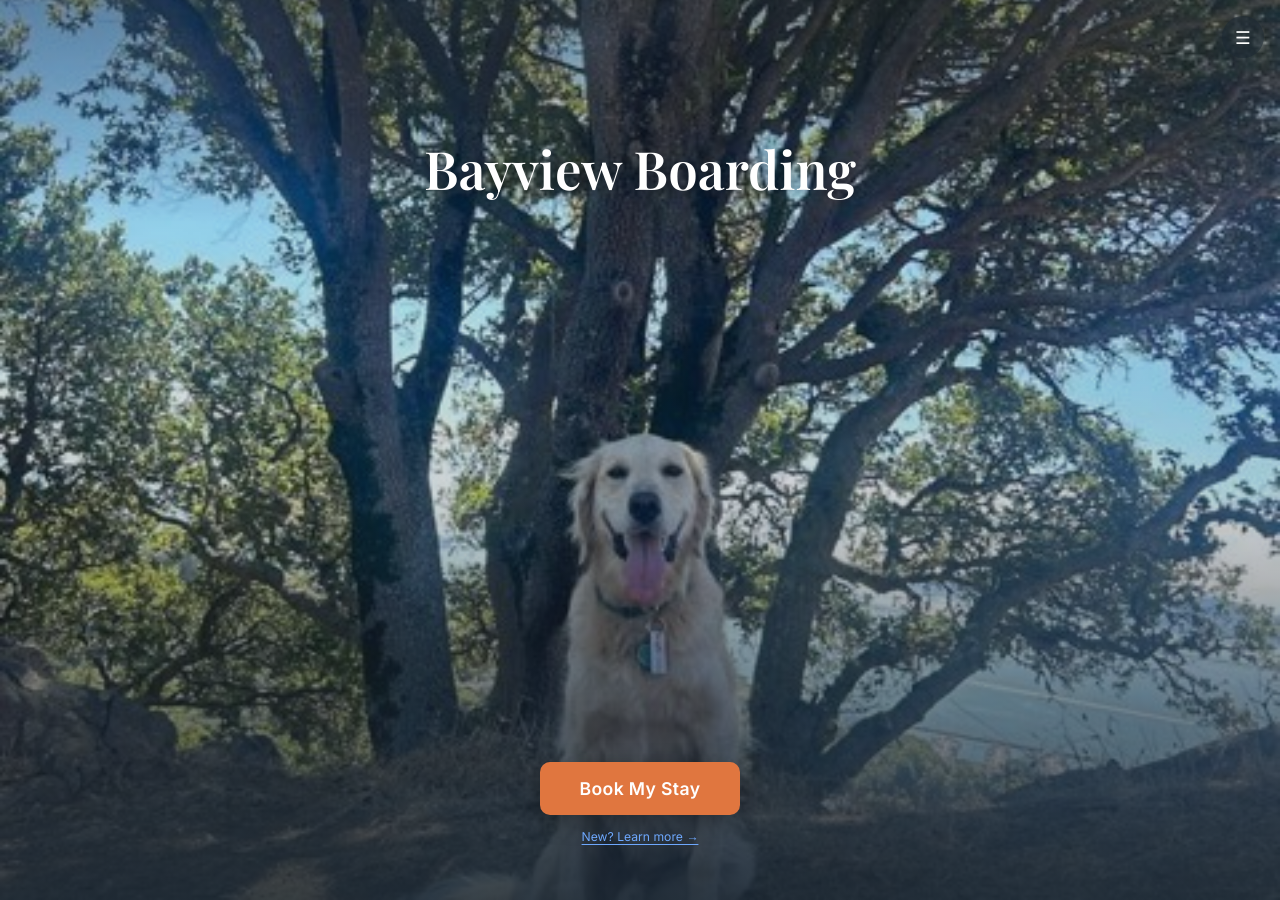
Test: Nav menu (hamburger) › clicking the backdrop closes the menu without navigating
The image size is (1280, 900).
Click the button named "Open menu".
click(1243, 37)  # box x1=1222 y1=16 x2=1264 y2=58
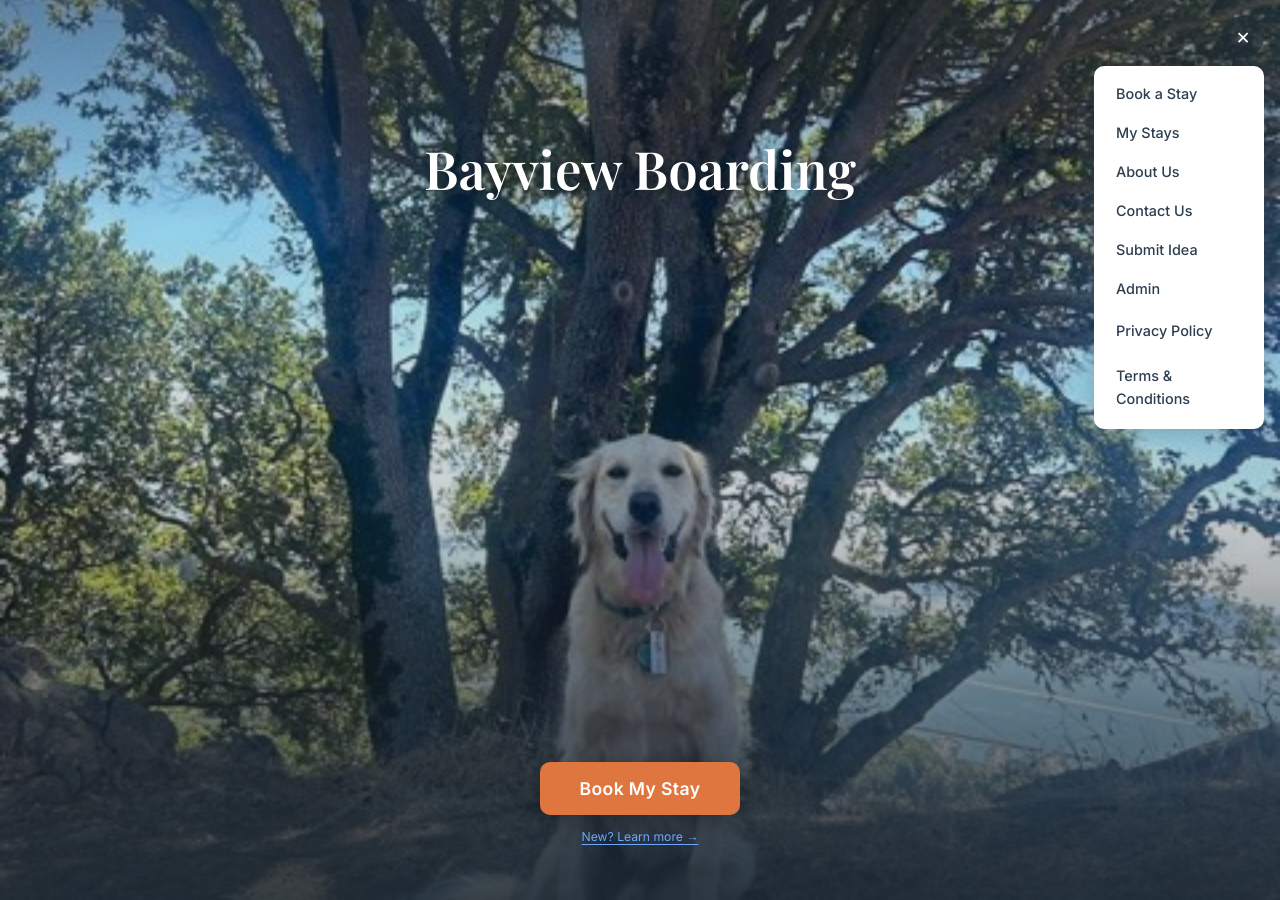
Click the element with class "nav-menu-backdrop".
click(640, 450)  # box x1=0 y1=0 x2=1279 y2=899
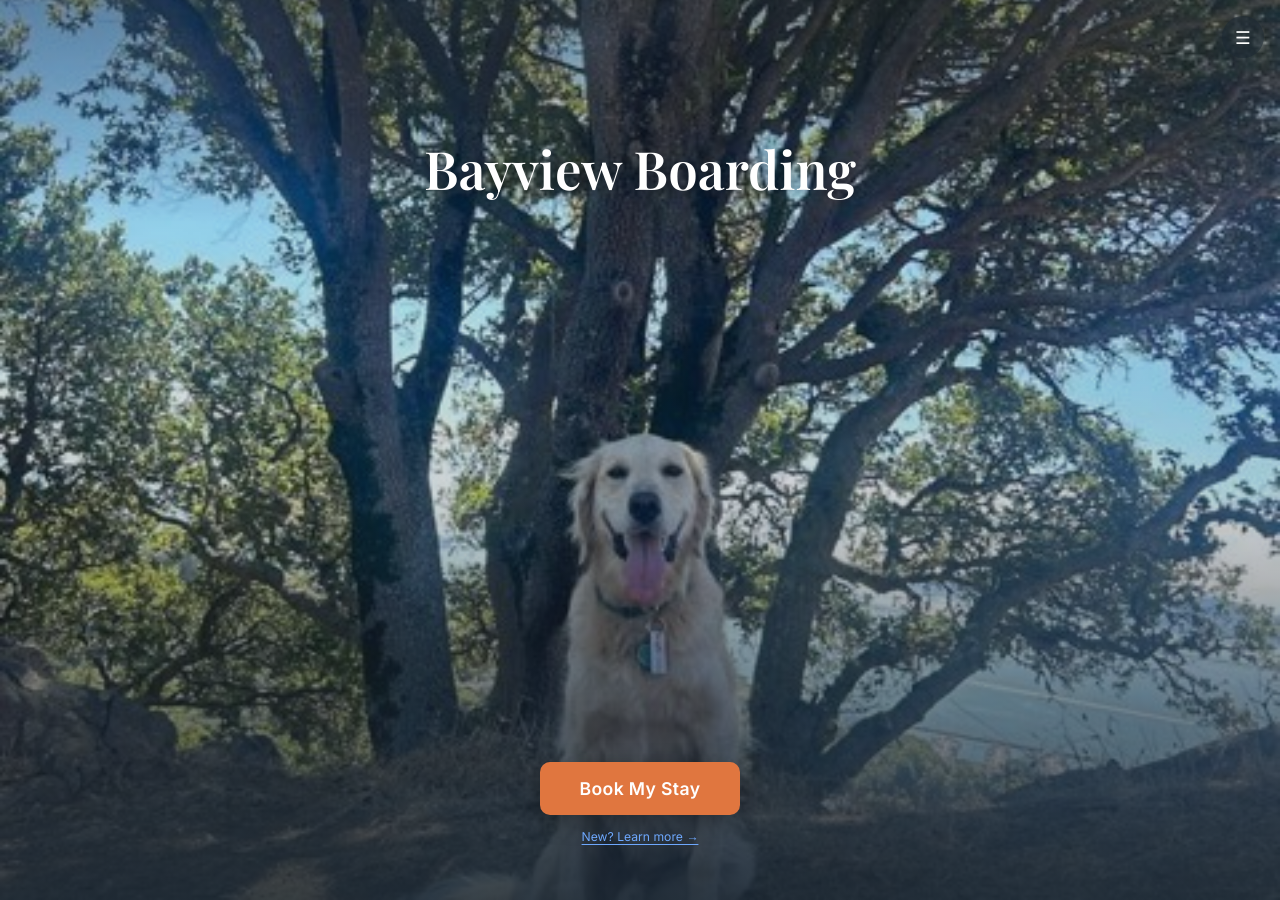
Expected: the heading "Bayview Boarding" is shown, x1=424 y1=133 x2=856 y2=203
Result: the button "About Us" is gone
